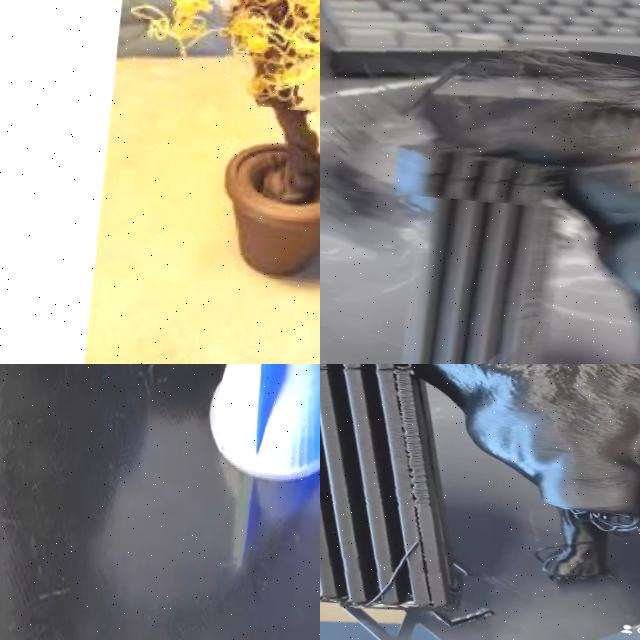spaghetti: (320, 18, 640, 229), (119, 0, 320, 131)
